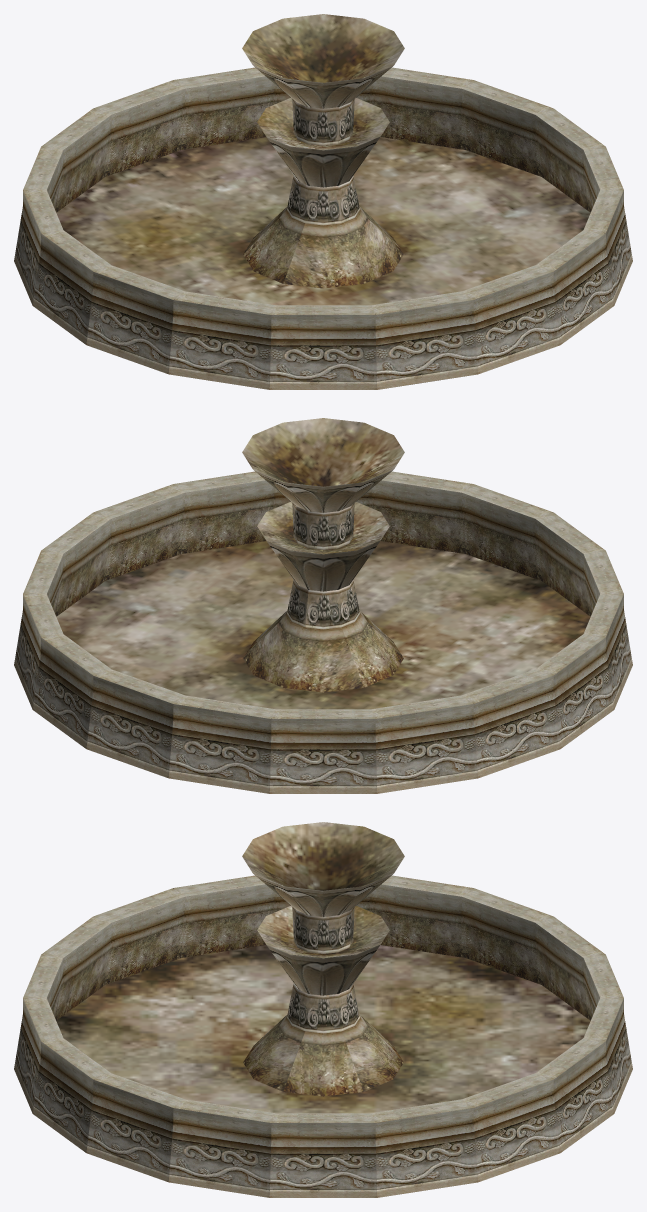
The model's file is Fountn02.glb.
3 views of the same model, one above another, from view 1: azimuth 30°, elevation 25°; view 2: azimuth 150°, elevation 25°; view 3: azimuth 270°, elevation 25° (orthographic).
Parts seen in each view (by area): view 1: _Fountn02; view 2: _Fountn02; view 3: _Fountn02.
Part boxes in pixels (x1,y1,x2,y2): _Fountn02: [14, 14, 632, 389]; _Fountn02: [14, 418, 632, 793]; _Fountn02: [14, 822, 632, 1197].
Bounding box in the file's own units: 7.07 × 2.72 × 7.18.
Materials: 1 (1 with a texture image).
